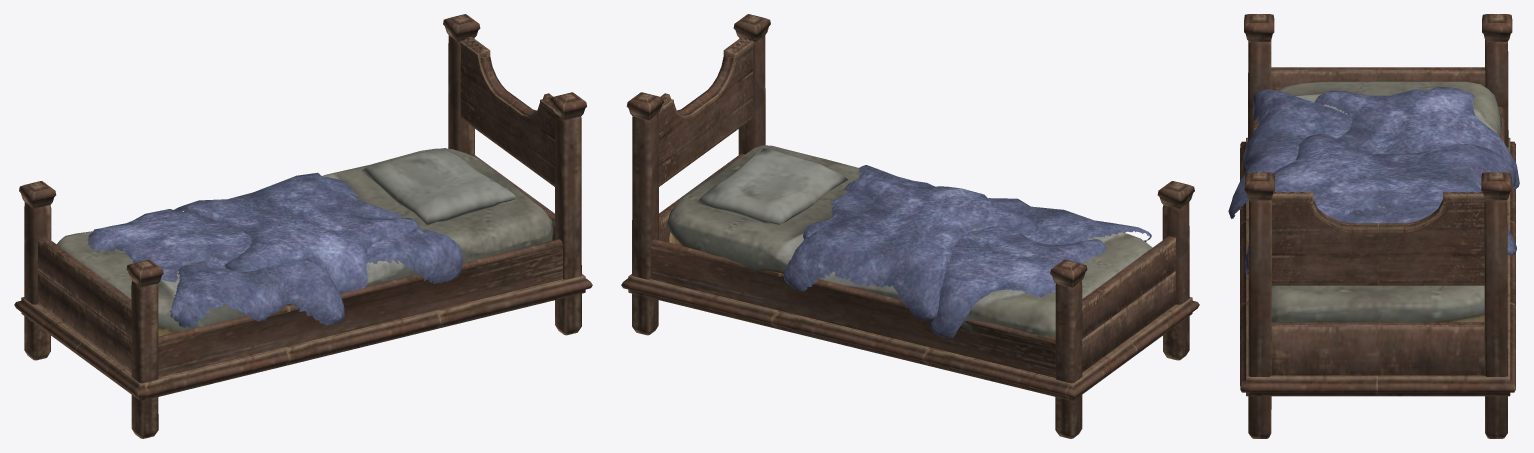
Rendered from bed_comfort2_t1.glb.
The picture shows the model from 3 angles, left to right: view 1: azimuth 30°, elevation 25°; view 2: azimuth 150°, elevation 25°; view 3: azimuth 270°, elevation 25°; orthographic projection. The views are drawn at different scales.
Visible parts, largest first — view 1: ensemble_set_dungeon_bed_02; view 2: ensemble_set_dungeon_bed_02; view 3: ensemble_set_dungeon_bed_02.
Part boxes in pixels (x1,y1,x2,y2): ensemble_set_dungeon_bed_02: (14,14,592,438); ensemble_set_dungeon_bed_02: (621,14,1199,438); ensemble_set_dungeon_bed_02: (1228,14,1519,438).
Size of the model in its own units: 3.01 by 1.5 by 1.51.
4 materials, 4 textured.
